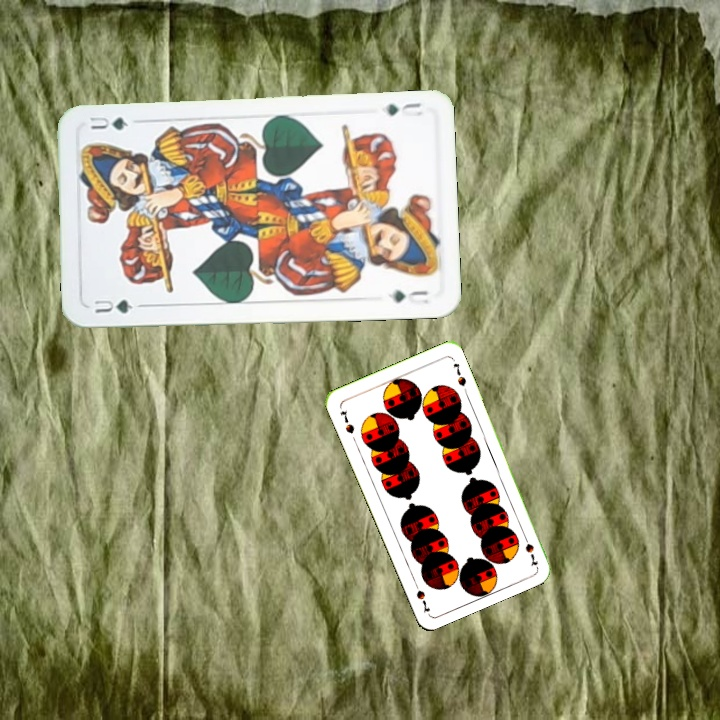GU: (90, 295, 135, 316), (381, 98, 425, 119)
S7: (519, 530, 541, 568), (336, 405, 357, 436)
